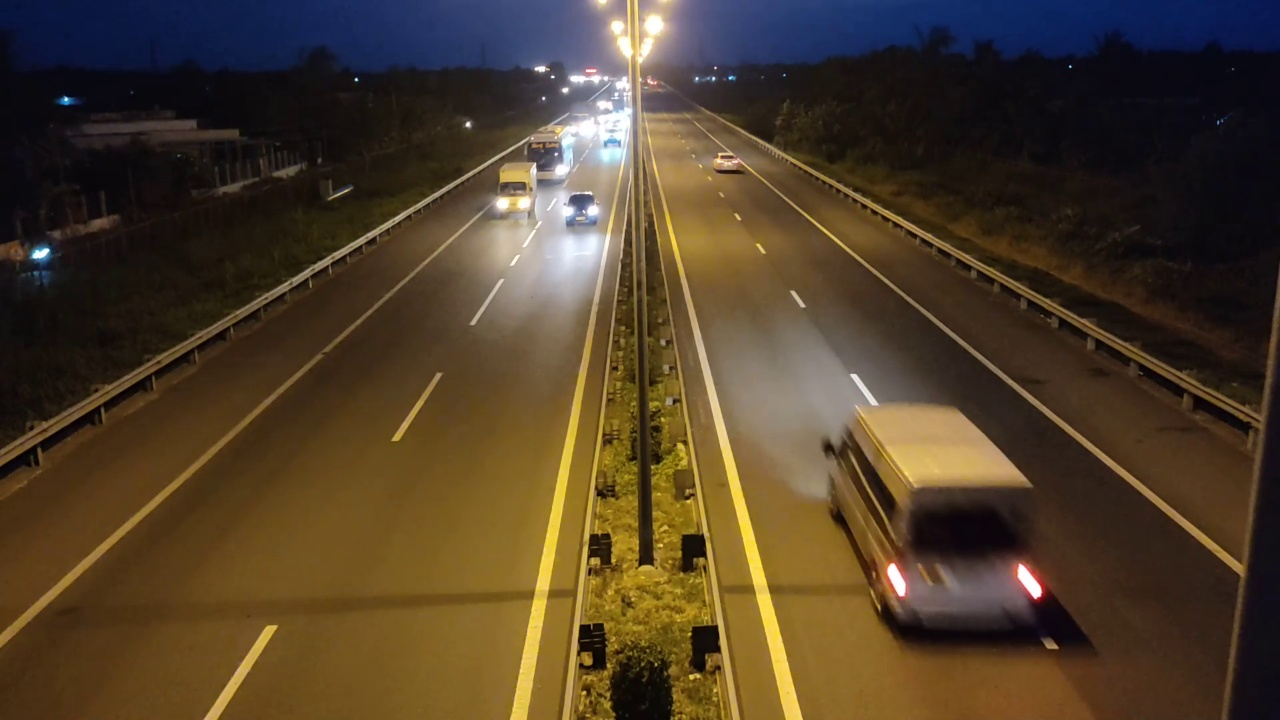car: (563, 191, 601, 227), (713, 152, 744, 173)
truck: (494, 161, 538, 219)
